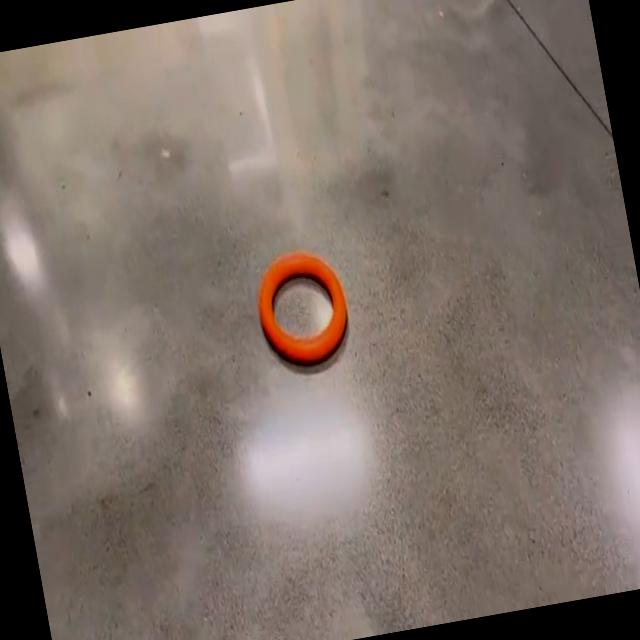note: (258, 251, 347, 363)
